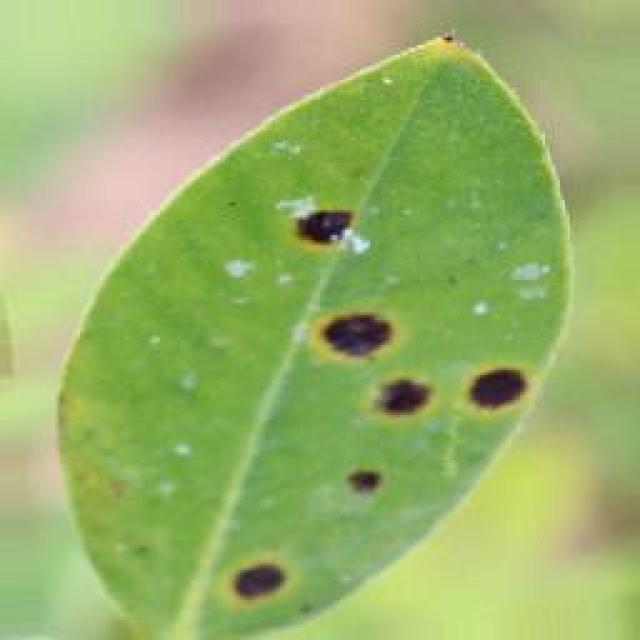Sigatoka: (310, 275, 424, 379), (458, 349, 552, 443), (300, 170, 376, 262), (352, 359, 442, 417), (324, 452, 395, 516), (232, 561, 296, 610)
